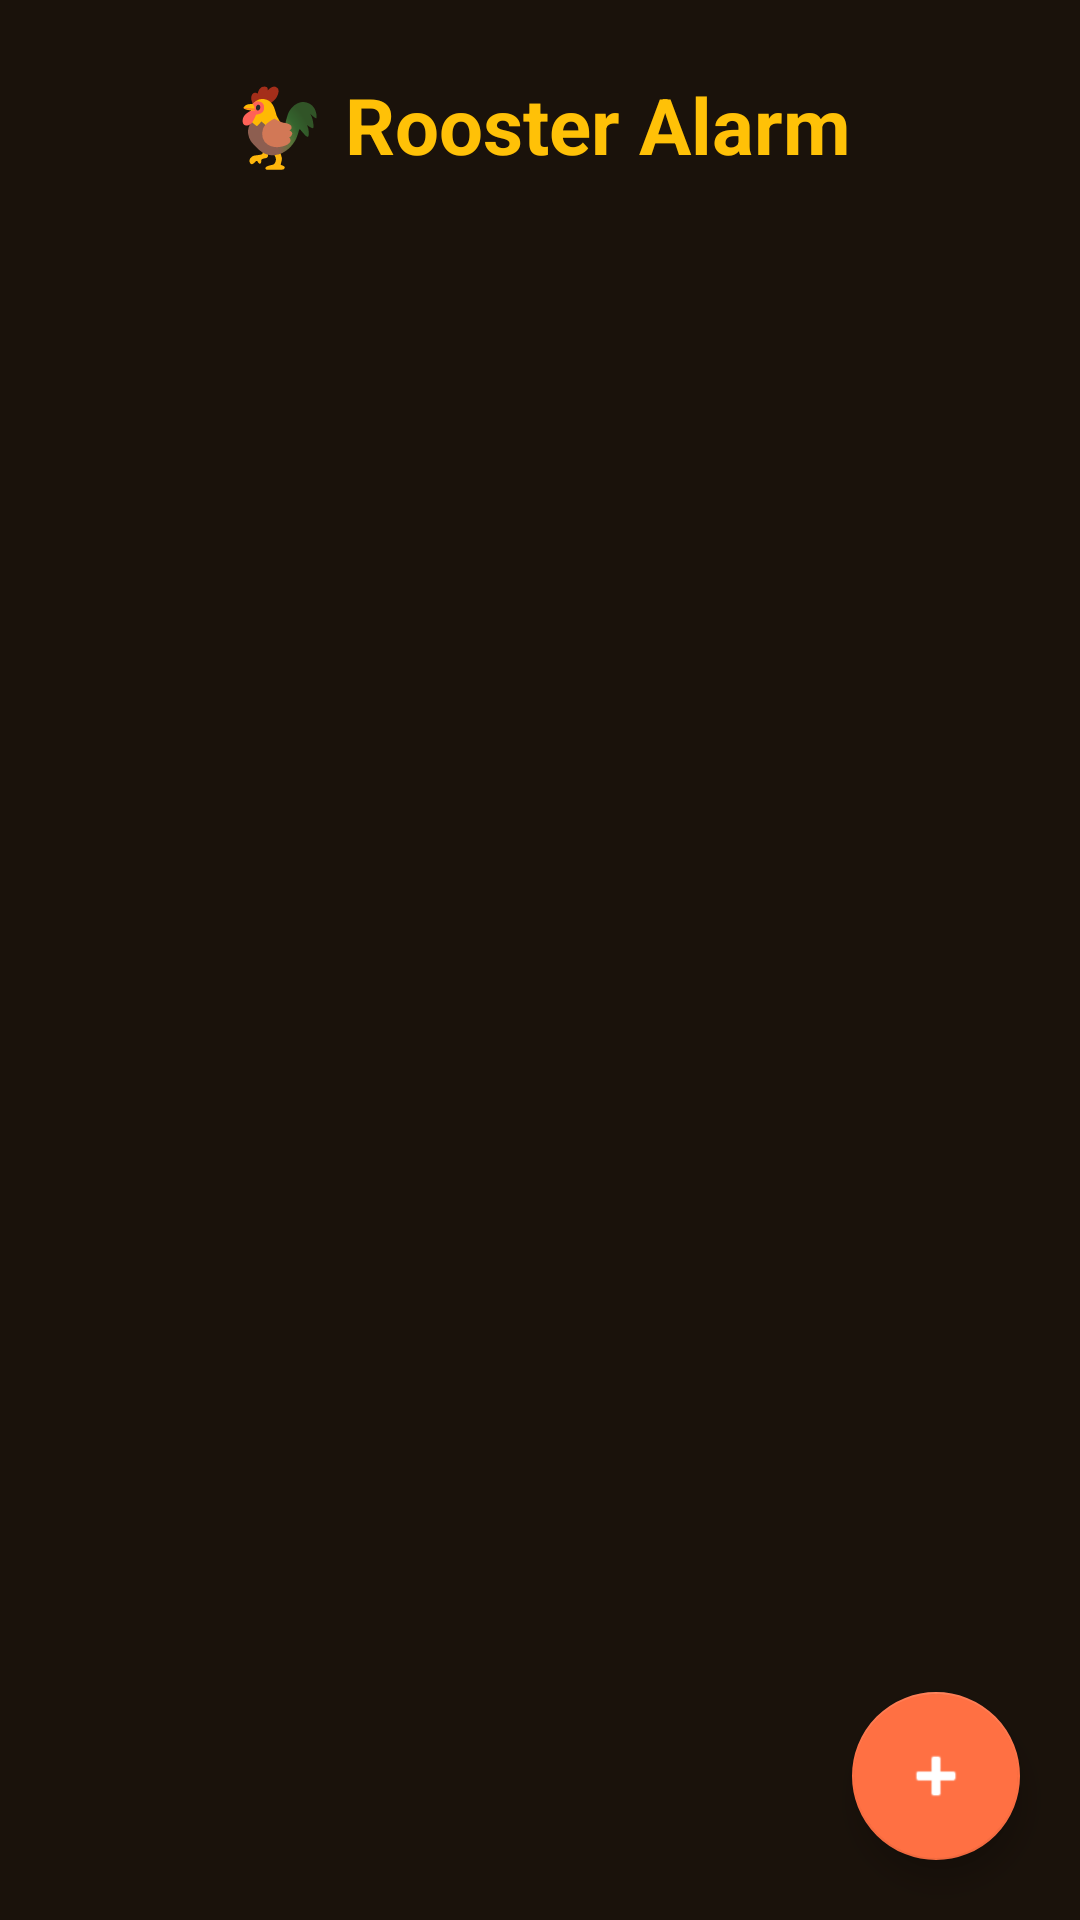

Icon bounding boxes for this 1080px×1920px phone screenshot, format rect(x1, y1, x2, y2):
Thêm báo thức: rect(852, 1692, 1020, 1860)
